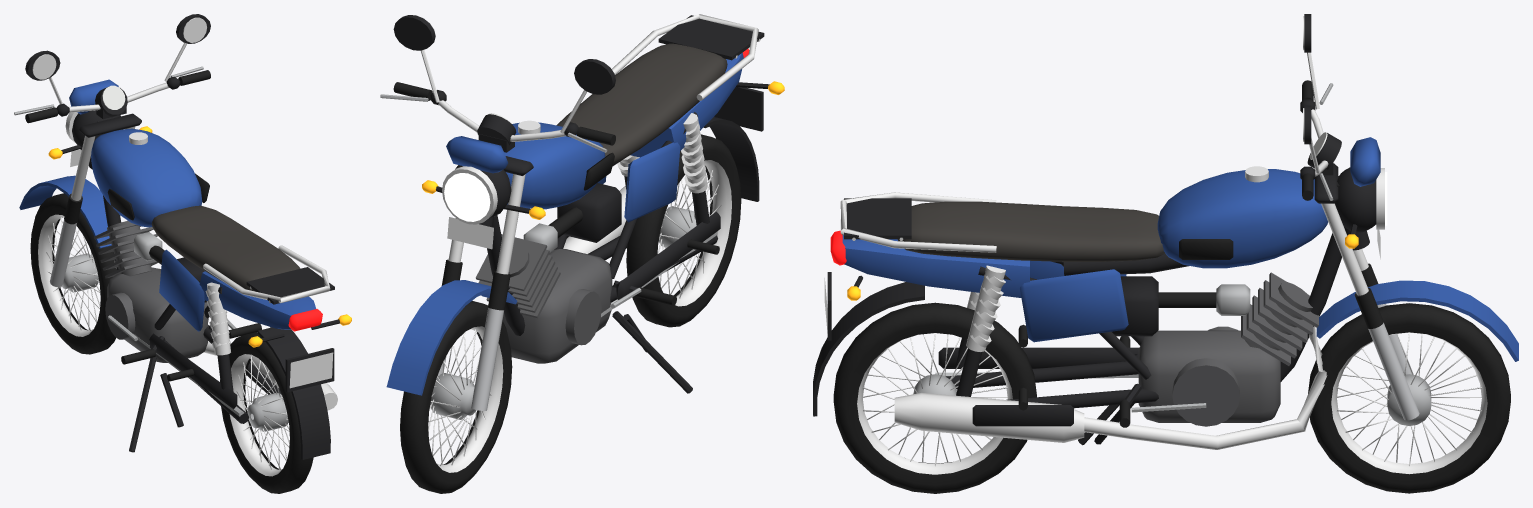
File: motorbike.glb
The picture shows the model from 3 angles, left to right: view 1: azimuth 30°, elevation 25°; view 2: azimuth 150°, elevation 25°; view 3: azimuth 270°, elevation 25°; orthographic projection. The views are drawn at different scales.
Visible parts, largest first — view 1: bike_body, wheel_rear, wheel_front; view 2: bike_body, wheel_front, wheel_rear; view 3: bike_body, wheel_front, wheel_rear.
Part boxes in pixels (x1=…): bike_body: x1=14, y1=14, x2=351, y2=459; wheel_rear: x1=220, y1=332, x2=313, y2=493; wheel_front: x1=30, y1=193, x2=116, y2=354; bike_body: x1=380, y1=14, x2=784, y2=410; wheel_front: x1=400, y1=301, x2=512, y2=493; wheel_rear: x1=626, y1=134, x2=741, y2=327; bike_body: x1=813, y1=14, x2=1518, y2=449; wheel_front: x1=1308, y1=303, x2=1510, y2=493; wheel_rear: x1=833, y1=302, x2=1036, y2=493.
Bounding box in the file's own units: 0.8025 × 1.39 × 2.08.
